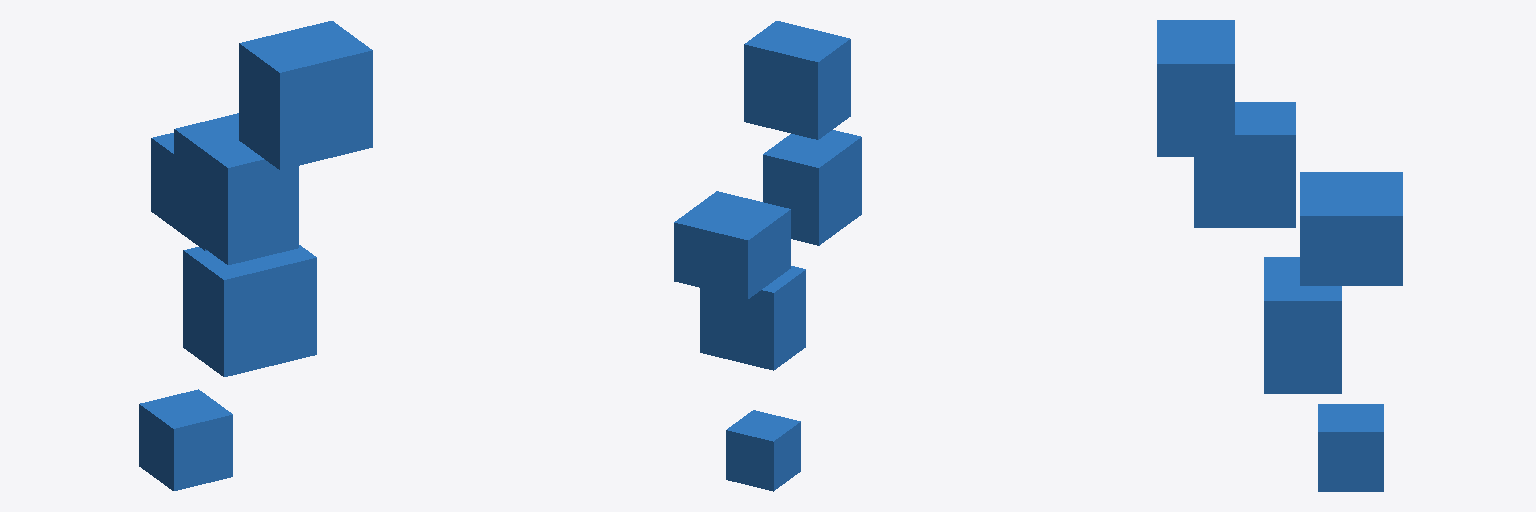
robot.urdf — shoulder_down_then_lateral_envelope_proxy:
<?xml version='1.0' encoding='utf-8'?>
<robot name="shoulder_down_then_lateral_envelope_proxy">
  <link name="world" />
  <link name="joint_0">
    <visual>
      <geometry>
        <box size="0.053 0.0402 0.053" />
      </geometry>
      <material name="m0">
        <color rgba="0.25 0.55 0.85 0.7" />
      </material>
    </visual>
  </link>
  <joint name="fixed_0" type="fixed">
    <parent link="world" />
    <child link="joint_0" />
    <origin xyz="0.0 0.0849 0.295" rpy="0 0 0" />
  </joint>
  <link name="joint_1">
    <visual>
      <geometry>
        <box size="0.0402 0.053 0.053" />
      </geometry>
      <material name="m1">
        <color rgba="0.25 0.55 0.85 0.7" />
      </material>
    </visual>
  </link>
  <joint name="fixed_1" type="fixed">
    <parent link="world" />
    <child link="joint_1" />
    <origin xyz="-0.0251 0.11 0.24" rpy="0 0 0" />
  </joint>
  <link name="joint_2">
    <visual>
      <geometry>
        <box size="0.053 0.053 0.0402" />
      </geometry>
      <material name="m2">
        <color rgba="0.25 0.55 0.85 0.7" />
      </material>
    </visual>
  </link>
  <joint name="fixed_2" type="fixed">
    <parent link="world" />
    <child link="joint_2" />
    <origin xyz="0.0 0.165 0.21489999999999998" rpy="0 0 0" />
  </joint>
  <link name="joint_3">
    <visual>
      <geometry>
        <box size="0.053 0.0402 0.053" />
      </geometry>
      <material name="m3">
        <color rgba="0.25 0.55 0.85 0.7" />
      </material>
    </visual>
  </link>
  <joint name="fixed_3" type="fixed">
    <parent link="world" />
    <child link="joint_3" />
    <origin xyz="0.0 0.1399 0.15999999999999998" rpy="0 0 0" />
  </joint>
  <link name="joint_4">
    <visual>
      <geometry>
        <box size="0.034 0.034 0.034" />
      </geometry>
      <material name="m4">
        <color rgba="0.25 0.55 0.85 0.7" />
      </material>
    </visual>
  </link>
  <joint name="fixed_4" type="fixed">
    <parent link="world" />
    <child link="joint_4" />
    <origin xyz="-0.022000000000000002 0.165 0.07999999999999997" rpy="0 0 0" />
  </joint>
</robot>

--- Render facts (derived) ---
Views: 3 orthographic renders of the robot side by side, from view 1: azimuth 30°, elevation 25°; view 2: azimuth 150°, elevation 25°; view 3: azimuth 270°, elevation 25°.
Model shoulder_down_then_lateral_envelope_proxy with 6 links and 5 joints (5 fixed), rooted at world, posed all joints at 0.
Links seen in each view (by area): view 1: joint_0, joint_3, joint_1, joint_4, joint_2; view 2: joint_0, joint_2, joint_1, joint_3, joint_4; view 3: joint_2, joint_0, joint_1, joint_3, joint_4.
Boxes of the visible links, box(x1,y1,x2,y2) form: joint_0: box(239, 21, 372, 169); joint_3: box(183, 245, 316, 376); joint_1: box(174, 113, 298, 264); joint_4: box(139, 389, 232, 490); joint_2: box(151, 133, 207, 250); joint_0: box(744, 21, 850, 139); joint_2: box(674, 191, 790, 298); joint_1: box(763, 130, 861, 245); joint_3: box(700, 266, 805, 370); joint_4: box(726, 410, 800, 491); joint_2: box(1300, 172, 1402, 285); joint_0: box(1157, 20, 1234, 156); joint_1: box(1194, 102, 1295, 227); joint_3: box(1264, 257, 1341, 393); joint_4: box(1318, 404, 1383, 491).
Size in the robot's own frame: 0.0717 by 0.1267 by 0.2585 metres.
Geometry: primitives only (box / cylinder / sphere), no mesh files.
